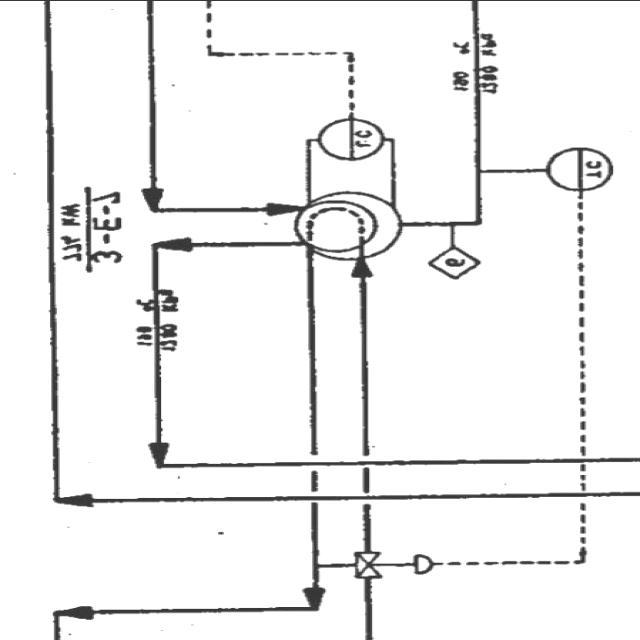Pneumatic-Diaphragm 3 Way Valve: (348, 544, 439, 588)
